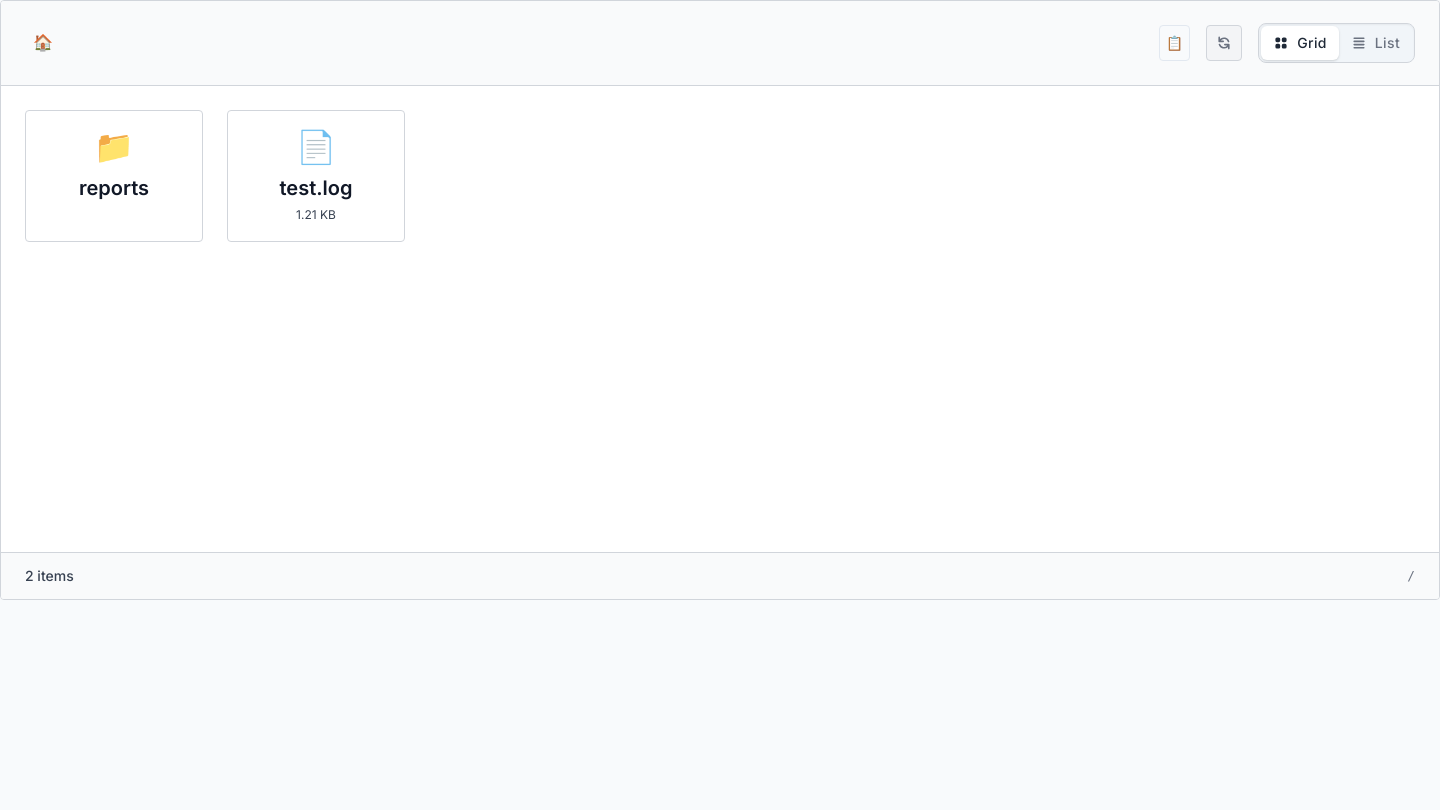
Test: FileExplorer › should navigate to folder when folder is clicked
The image size is (1440, 810).
Click the text "reports".
click(114, 188)  # box [79, 176, 149, 200]
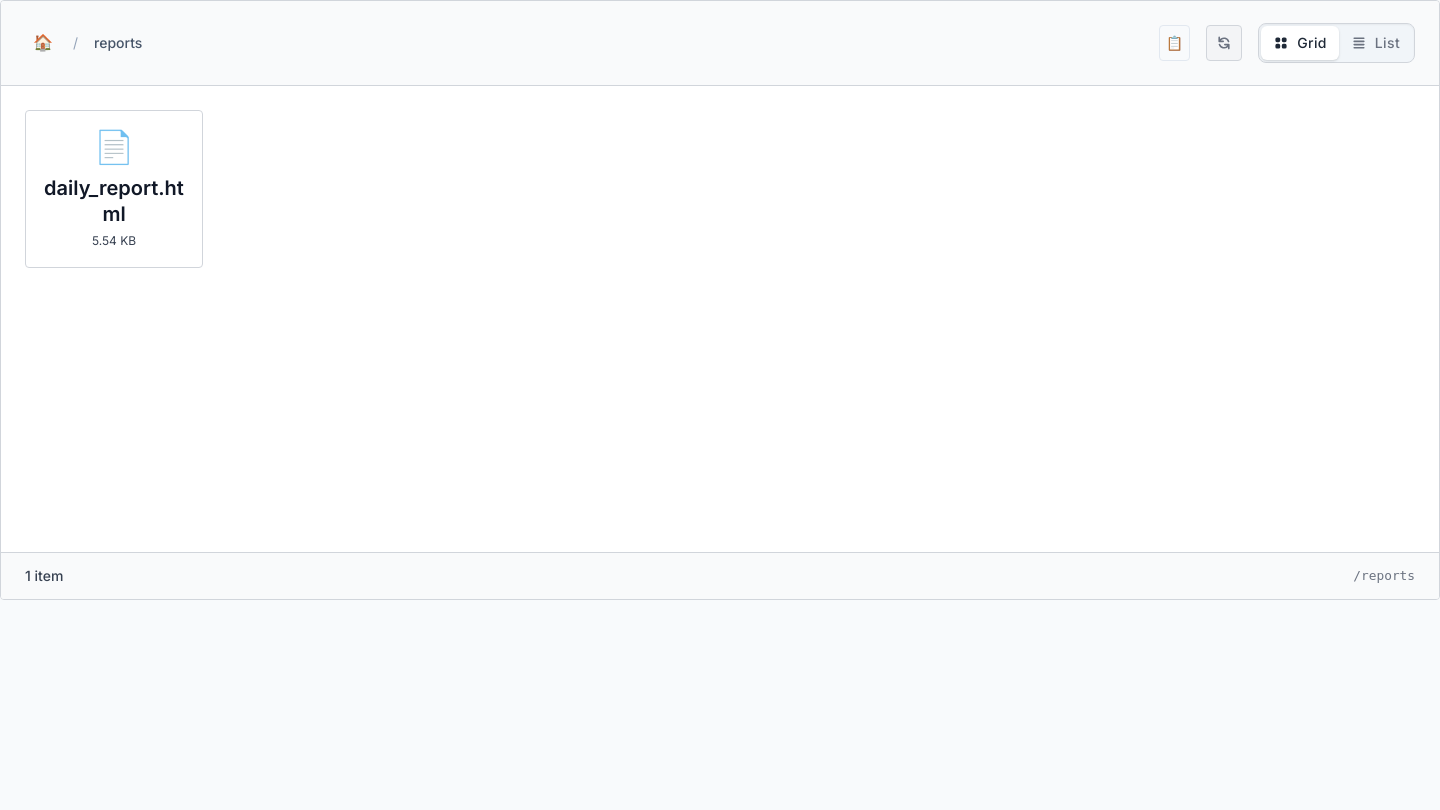
Now the text "daily_report.html" is shown, box [42, 175, 186, 227]
